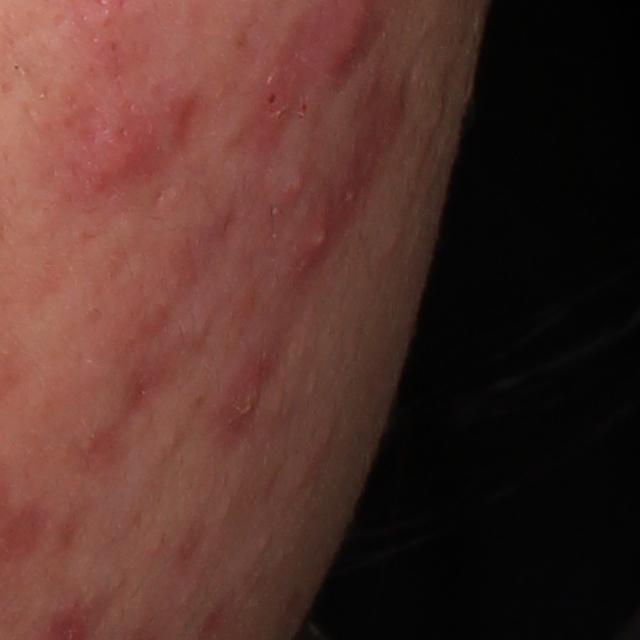papule: (59, 68, 187, 213), (208, 335, 277, 443), (288, 188, 348, 297), (111, 279, 176, 362), (268, 157, 320, 214)
